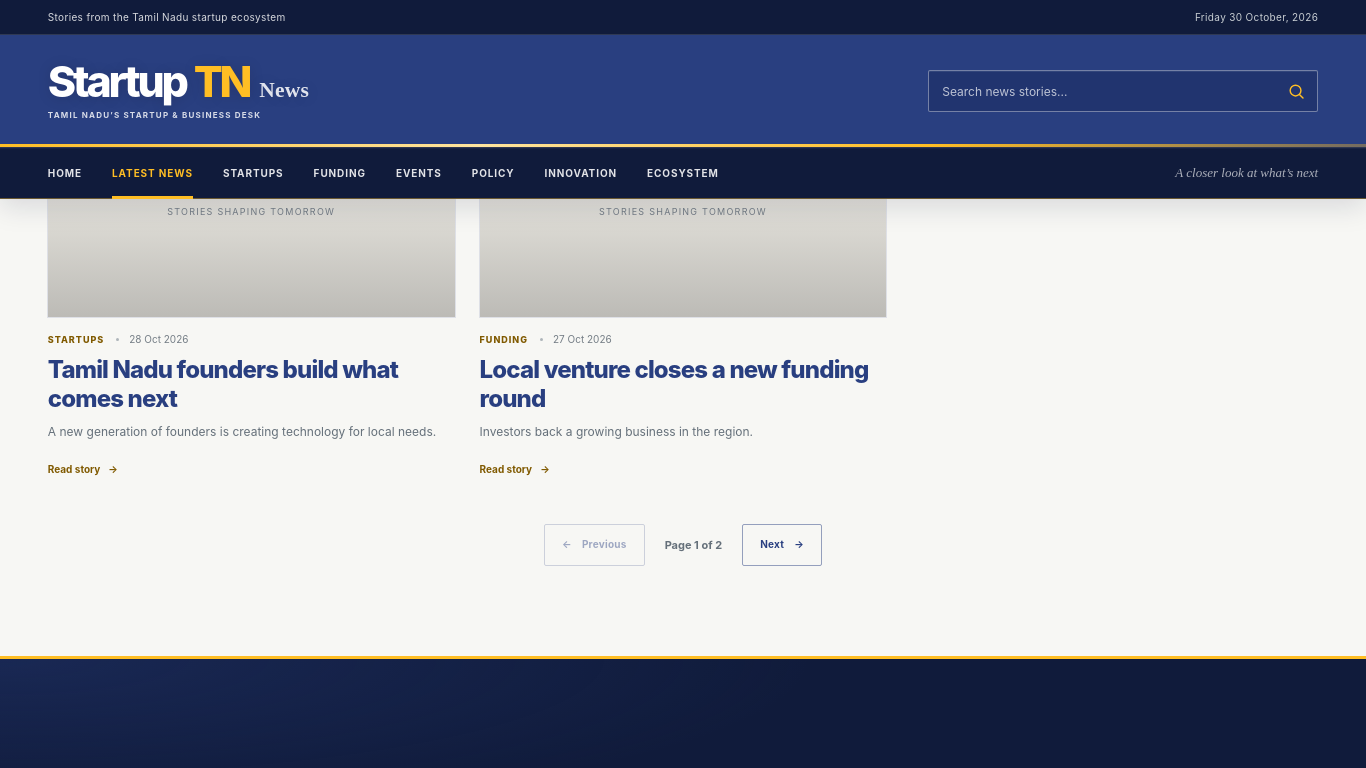
Test: public news experience › navigates to a published article and renders attribution and share links
(page scrolled)
Click the link "Tamil Nadu founders build what comes next".
click(223, 370)  # box [48,356,398,413]
(page scrolled)
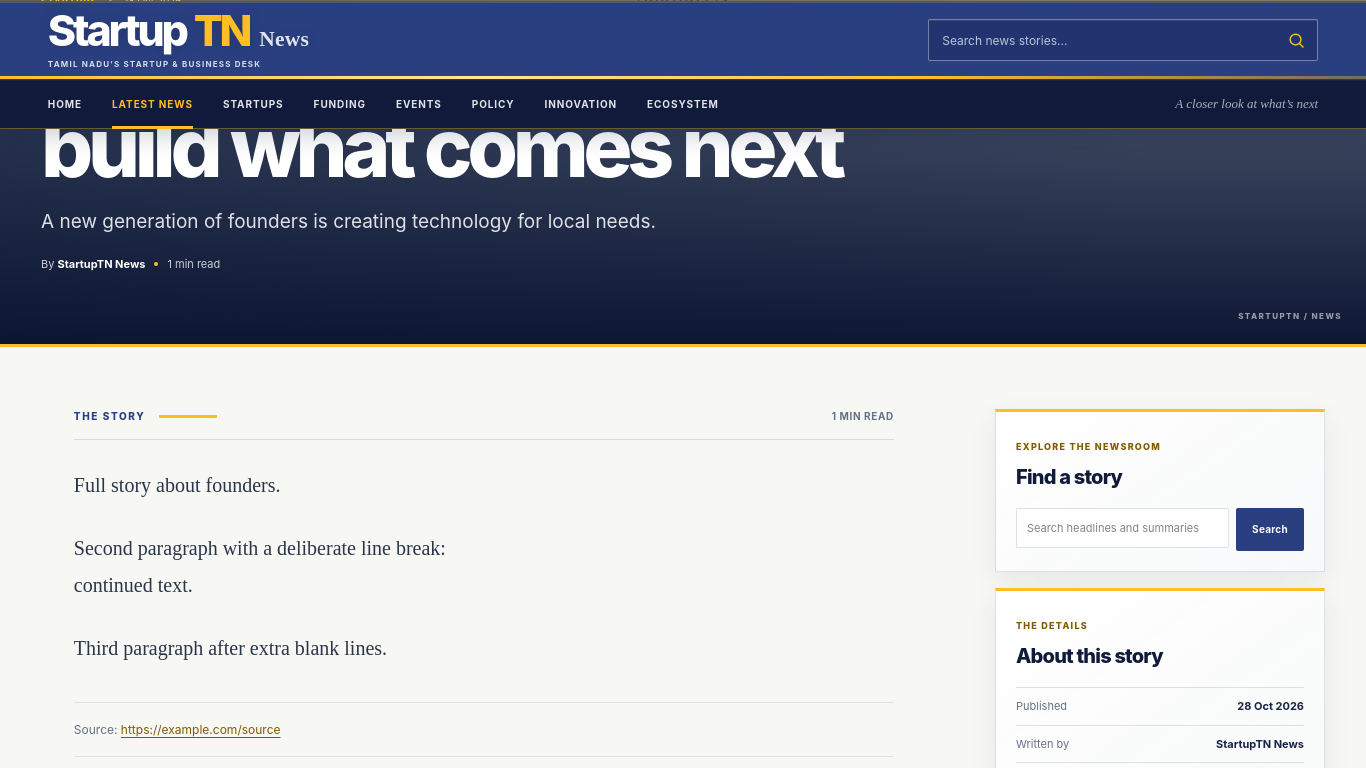
Expected: the heading "Tamil Nadu founders build what comes next" is shown, [41,15,841,197]
Expected: the text "Full story about founders." is shown, [74,474,280,496]
